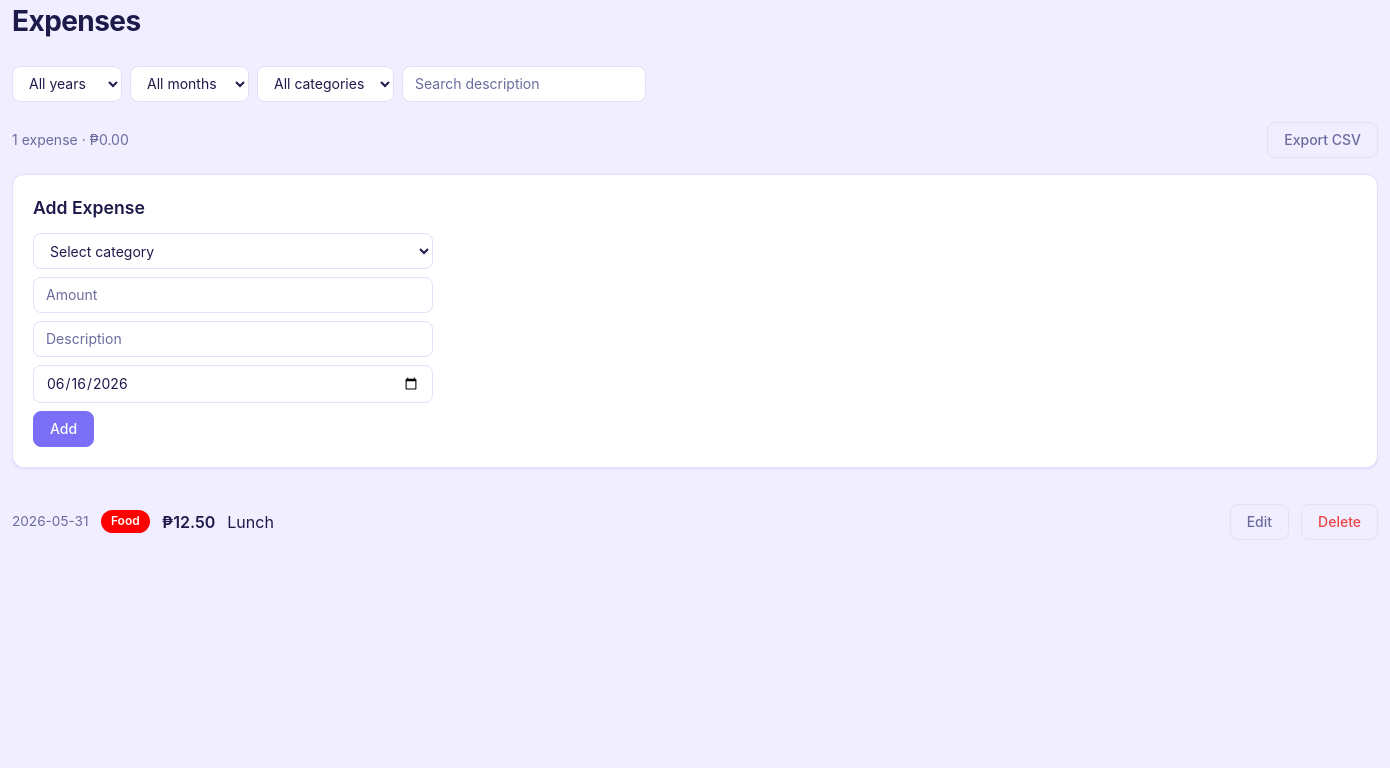
ExpensesPage › Cancel edit hides the inline edit form
expect the text "Lunch" is shown: met, box [227, 512, 274, 532]
Click the button "Edit" at {"x": 1259, "y": 522}, box [1230, 504, 1289, 540]
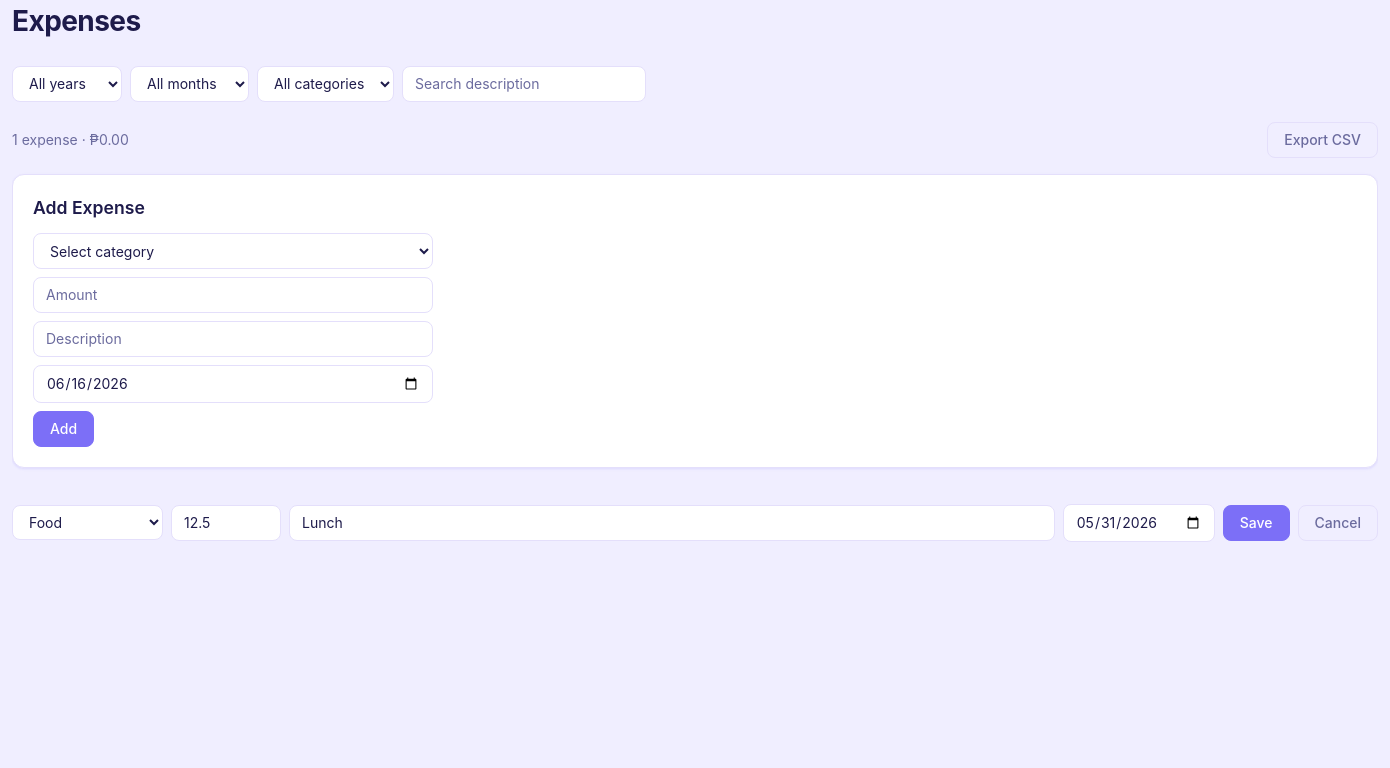
Click the button "Cancel" at {"x": 1338, "y": 523}, box [1298, 505, 1378, 541]
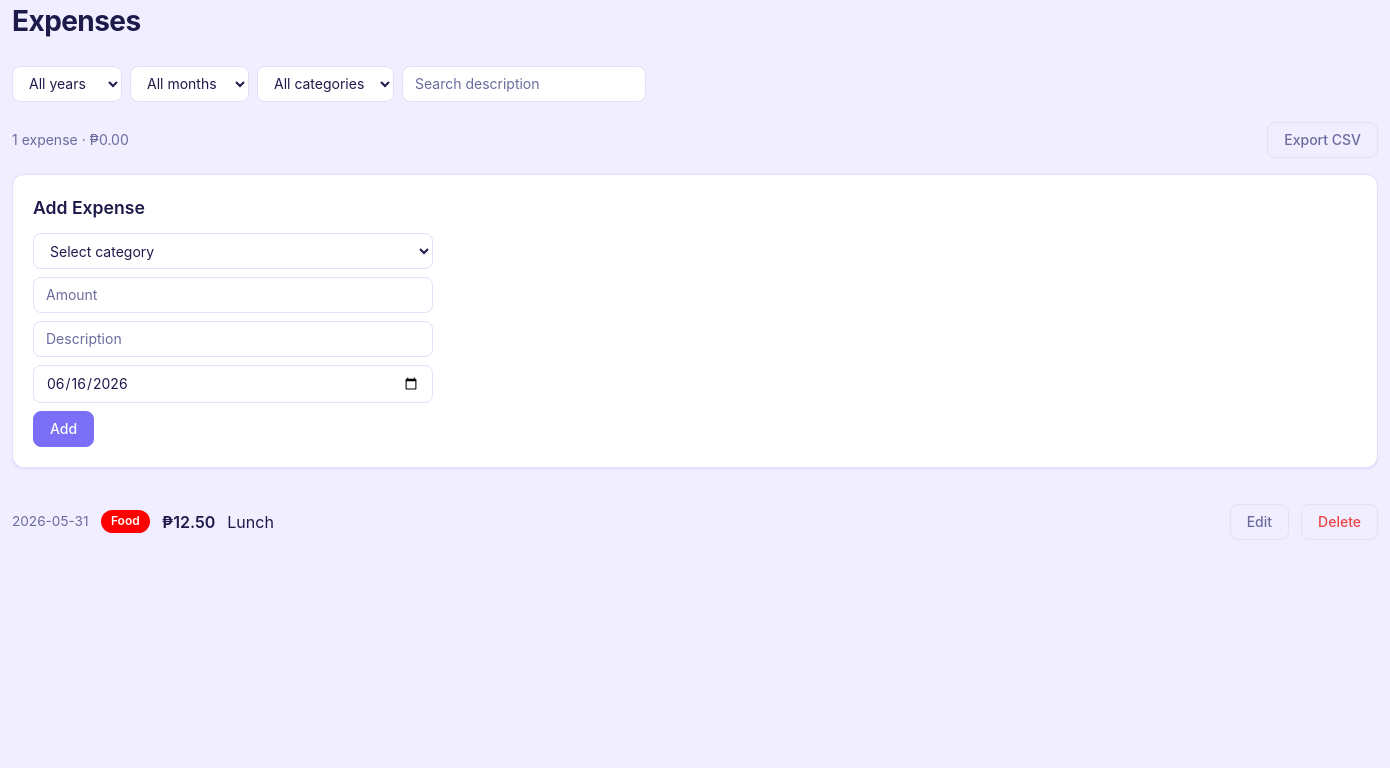
expect the button "Save" is gone: met
